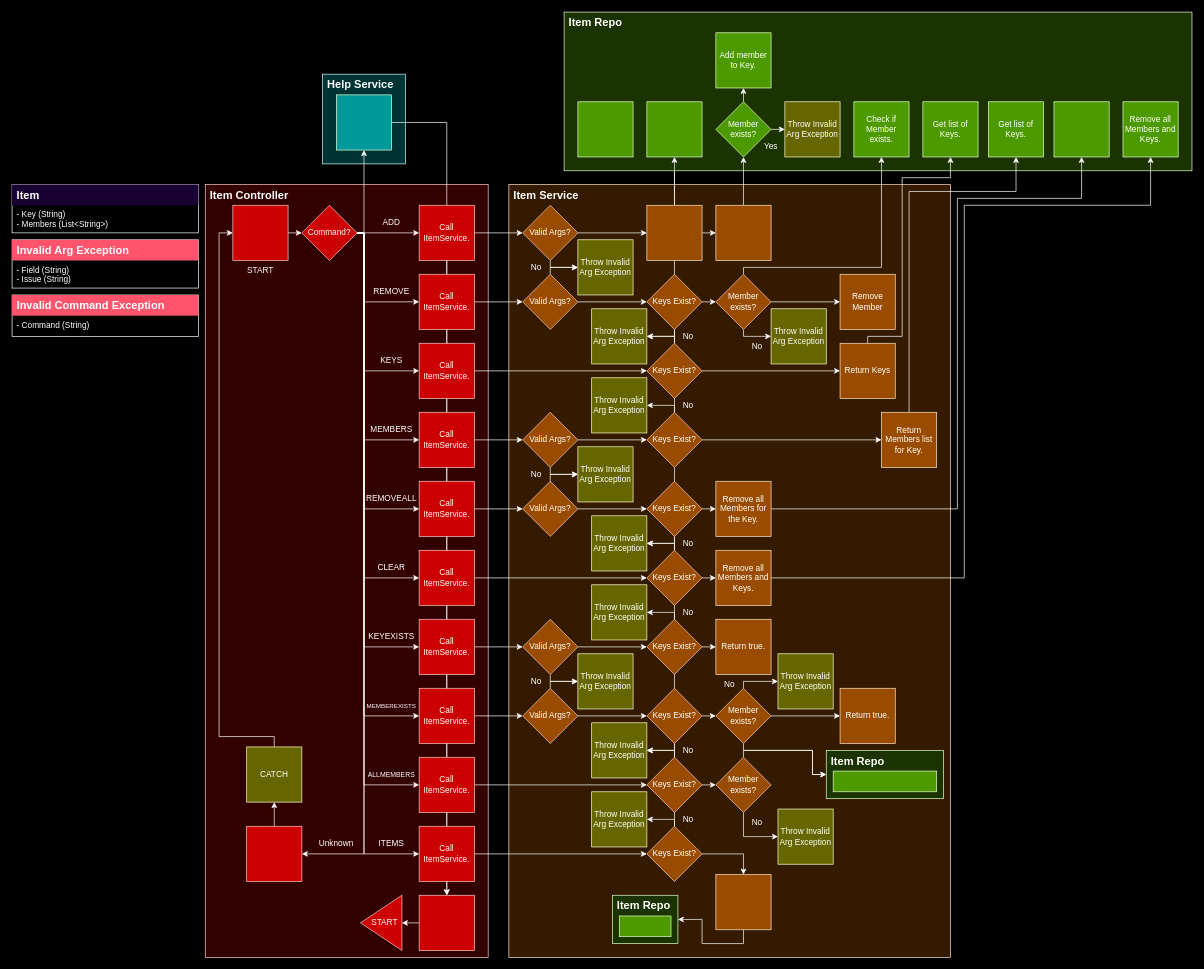
Some shapes in this 1204 by 969 pixel diagram are drawn without their labels. The box of each missing label's shape, as (x1, y1, x2, y2) in pixels:
Check if Key/Keys exists.: (646, 101, 702, 157)
Check if Member(s) Exists,: (832, 770, 937, 792)
Create Key if none exists.: (646, 205, 702, 260)
Create Member and add to the Key.: (715, 205, 771, 260)
Display output.: (418, 895, 474, 950)
Get Items.: (619, 915, 671, 937)
Get list of commands.: (336, 94, 392, 150)
Get list of Items.: (577, 101, 633, 157)
Listen for user input.: (232, 205, 288, 260)
Remove Members of Key.: (1053, 101, 1109, 157)
Return List of Items.: (715, 874, 771, 930)
Throw Invalid Command Exception: (246, 826, 302, 881)
